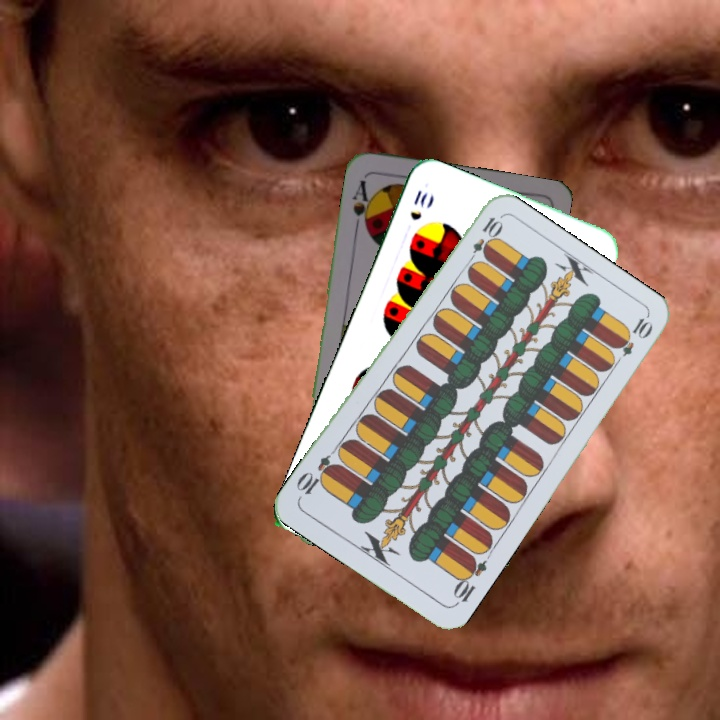E10: (448, 552, 490, 609), (463, 213, 504, 268)
S10: (406, 186, 431, 223)
SA: (348, 176, 376, 233)
